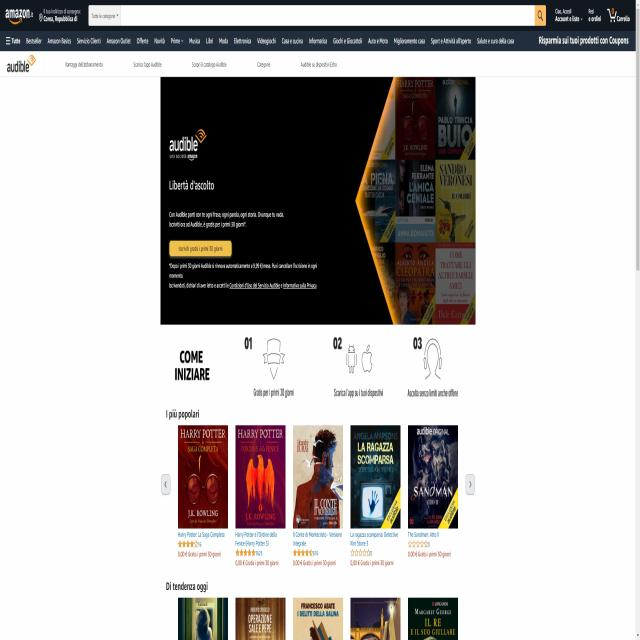tab-bar: (4, 33, 516, 48)
